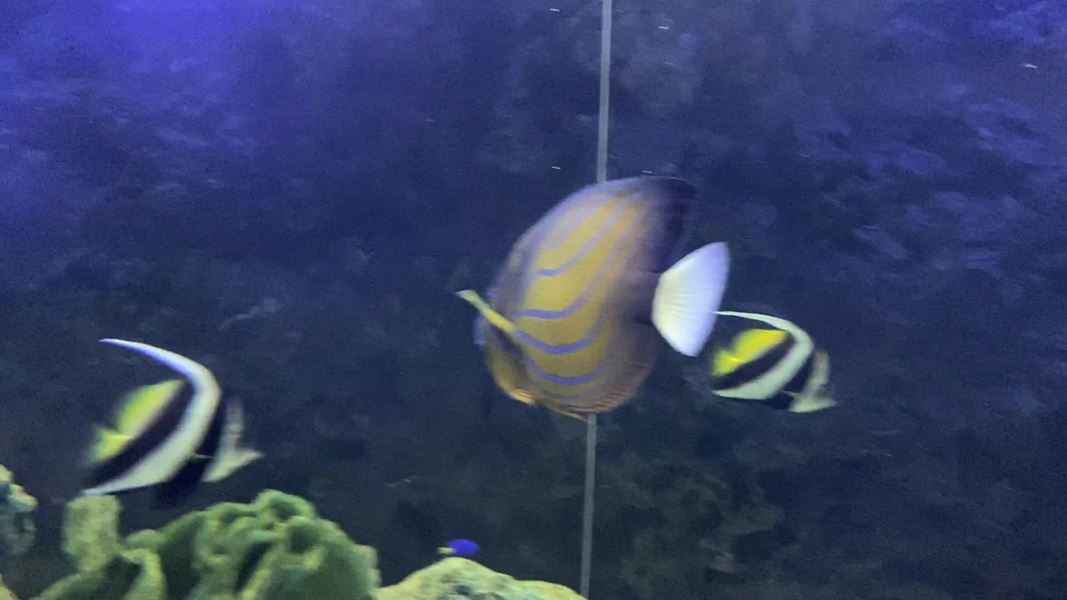Blue ring angelfish: (421, 145, 744, 449)
